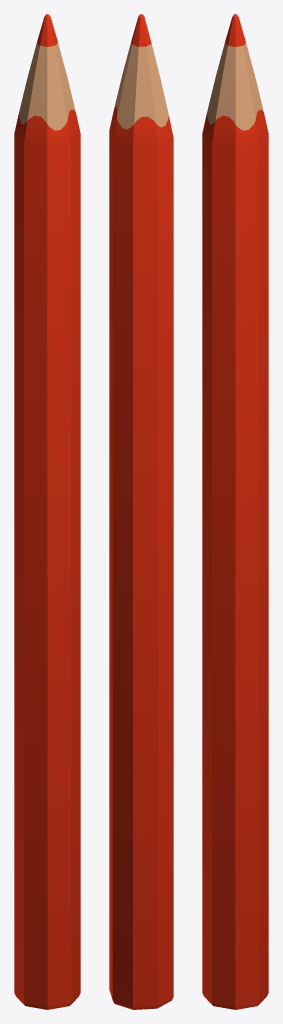
The model's file is pencil_4.glb.
The picture shows the model from 3 angles, left to right: view 1: azimuth 90°, elevation 25°; view 2: azimuth 210°, elevation 25°; view 3: azimuth 270°, elevation 25°; orthographic projection.
Parts seen in each view (by area): view 1: Cylinder.033; view 2: Cylinder.033; view 3: Cylinder.033.
Part boxes in pixels (bbox=[...]): Cylinder.033: bbox=[14, 14, 80, 1009]; Cylinder.033: bbox=[109, 14, 173, 1009]; Cylinder.033: bbox=[202, 14, 268, 1009].
Size of the model in its own units: 0.00842 by 0.1376 by 0.00842.
Materials: 1 (1 with a texture image).
